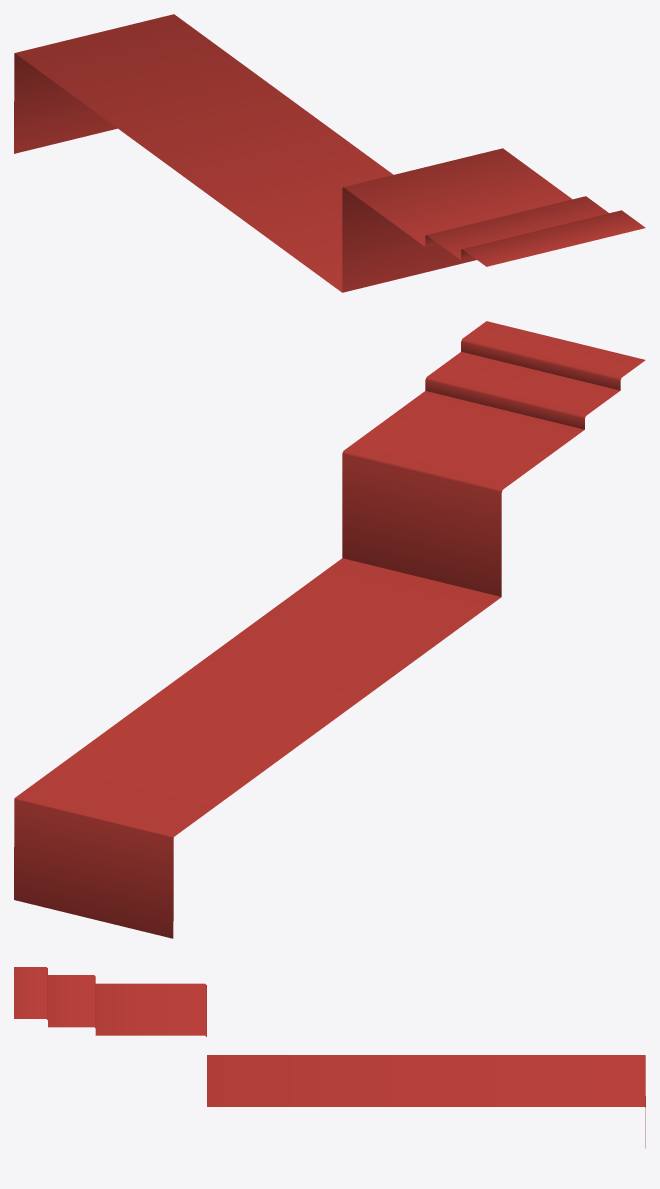
The model's file is SM_Carpet_01.fbx.
The picture shows the model from 3 angles, top to bottom: view 1: azimuth 30°, elevation 25°; view 2: azimuth 150°, elevation 25°; view 3: azimuth 270°, elevation 25°; orthographic projection. The views are drawn at different scales.
Visible parts, largest first — view 1: Plane.003; view 2: Plane.003; view 3: Plane.003.
Part boxes in pixels (x1,y1,x2,y2): Plane.003: (14, 14, 645, 292); Plane.003: (14, 321, 645, 938); Plane.003: (14, 967, 645, 1148).
Size of the model in its own units: 2.79 by 3.89 by 14.32.
